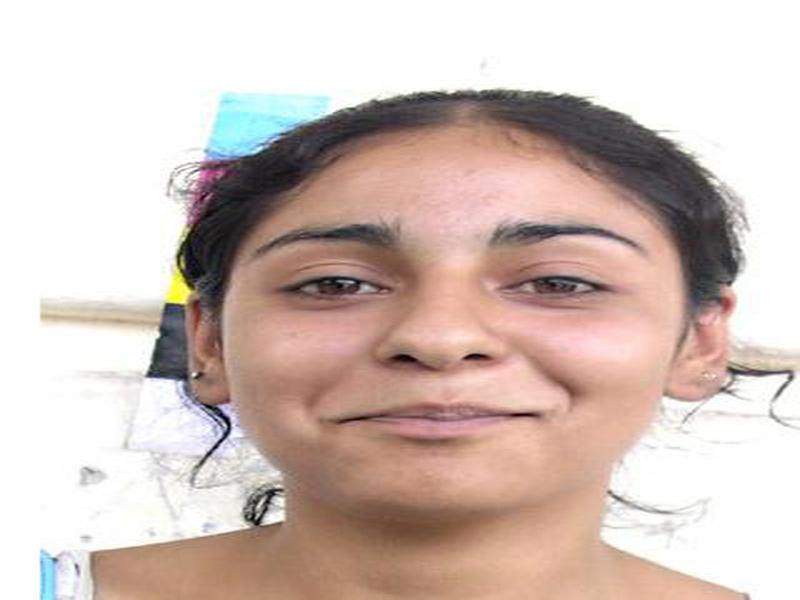without_mask: (223, 170, 682, 523)
